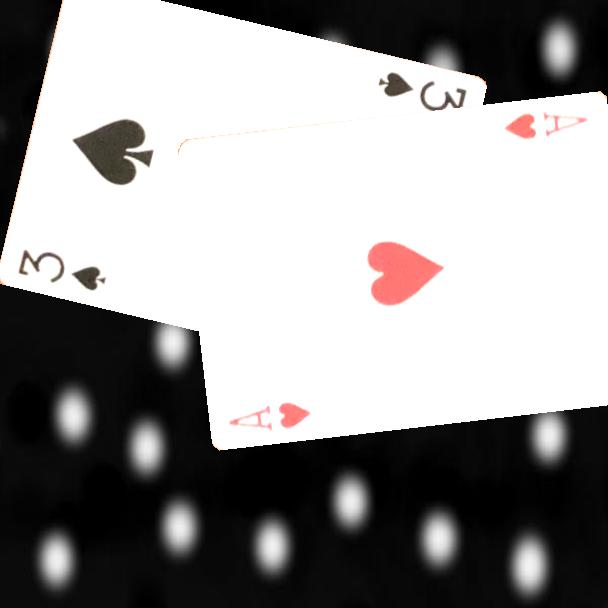h01: (225, 398, 314, 434), (501, 108, 591, 142)
s03: (374, 68, 469, 118), (13, 246, 108, 294)
